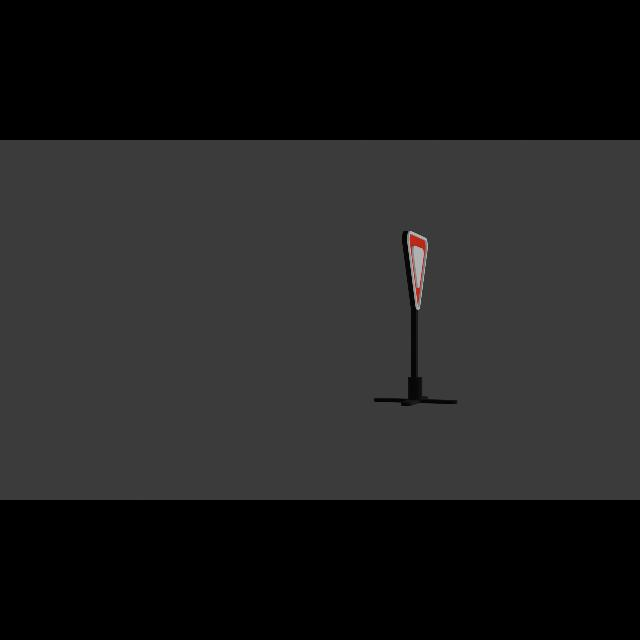sign_yield: (406, 231, 429, 311)
